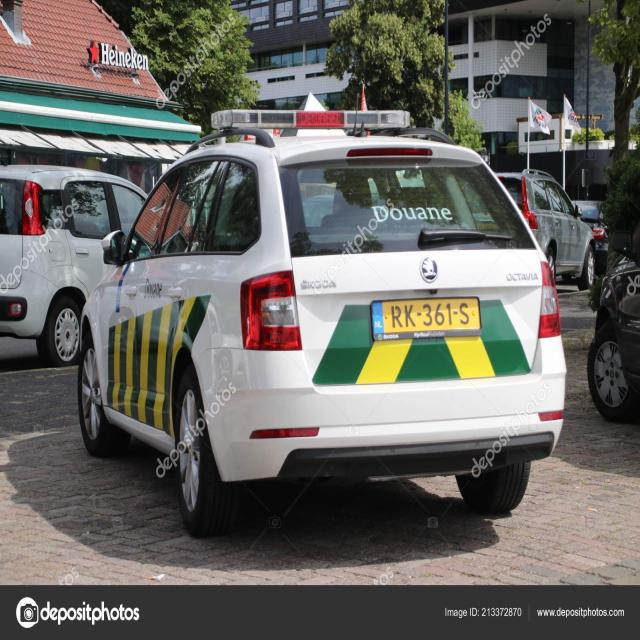number_plate: (371, 297, 487, 332)
